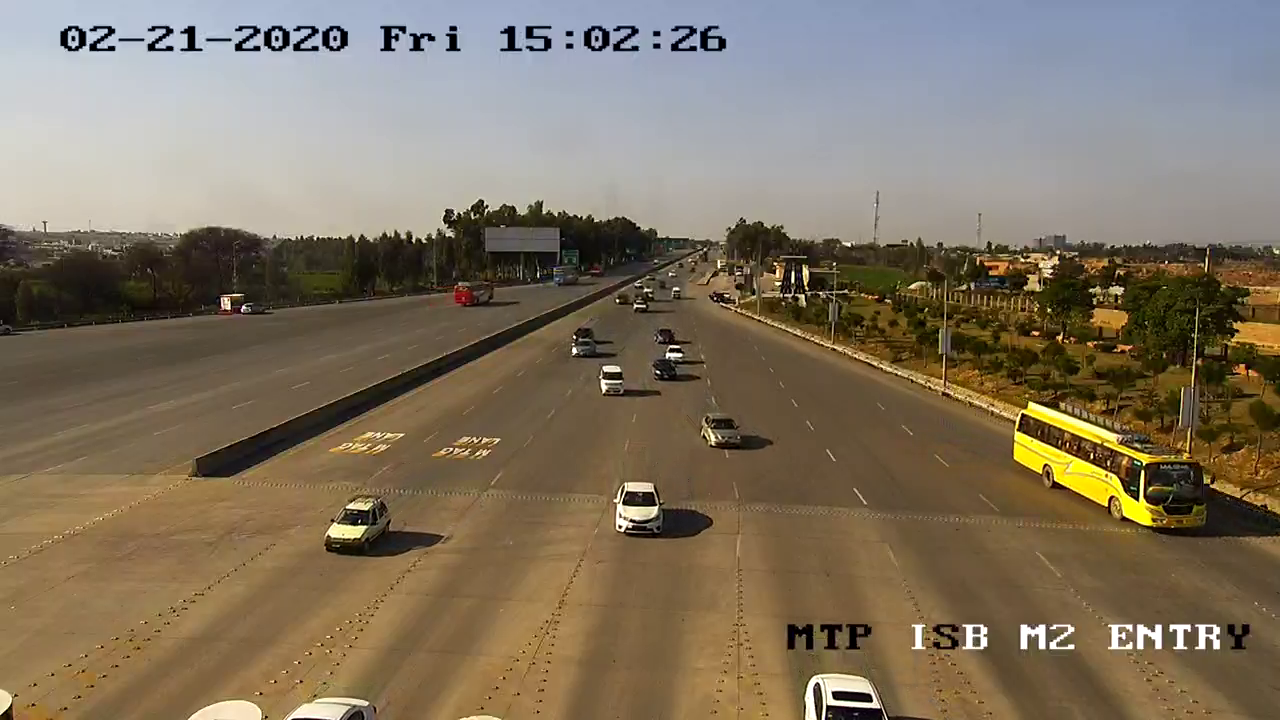f1: (311, 488, 408, 561), (603, 472, 671, 543), (688, 406, 752, 458)
f4: (997, 388, 1219, 543)
